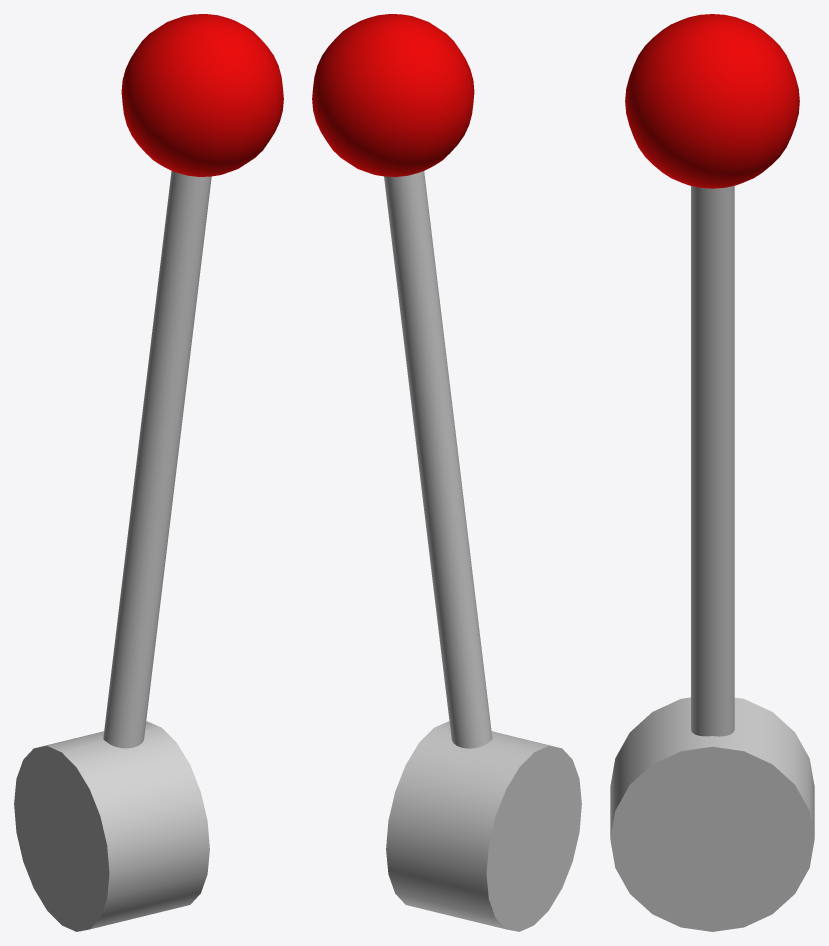
The model's file is leverPull.fbx.
3 renders of one model, left to right at view 1: azimuth 30°, elevation 25°; view 2: azimuth 150°, elevation 25°; view 3: azimuth 270°, elevation 25°, orthographic. The views are drawn at different scales.
Visible parts, largest first — view 1: polySurface13, polySurface12; view 2: polySurface13, polySurface12; view 3: polySurface13, polySurface12.
Part boxes in pixels (bbox=[...]): polySurface13: bbox=[103, 14, 283, 748]; polySurface12: bbox=[14, 721, 209, 931]; polySurface13: bbox=[312, 14, 492, 748]; polySurface12: bbox=[386, 721, 581, 931]; polySurface13: bbox=[625, 14, 799, 736]; polySurface12: bbox=[610, 697, 814, 931].
Size of the model in its own units: 1.26 by 4.93 by 0.9815.
